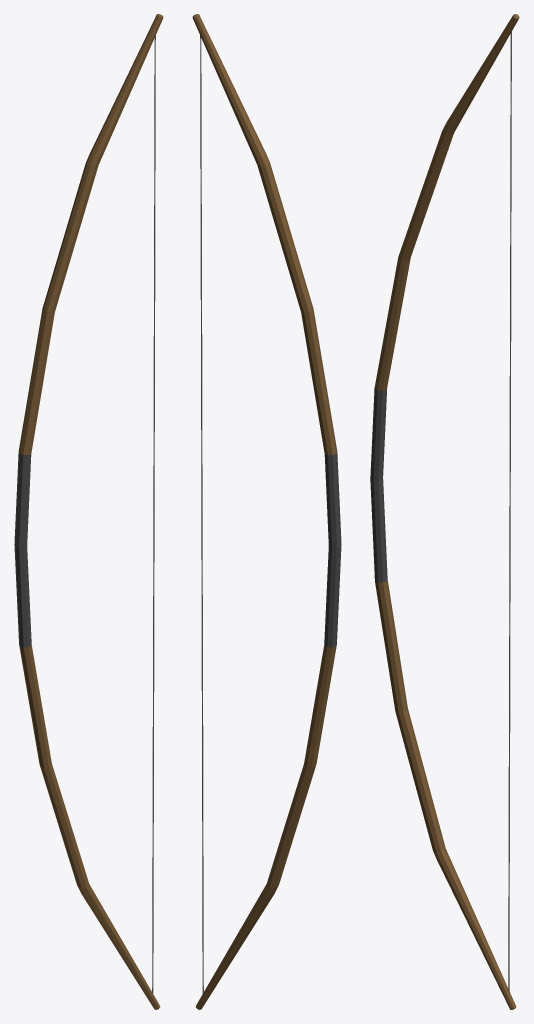
Rendered from Longbow.fbx.
3 renders of one model, left to right at view 1: azimuth 30°, elevation 25°; view 2: azimuth 150°, elevation 25°; view 3: azimuth 330°, elevation 25°, orthographic.
Visible parts, largest first — view 1: Longbow; view 2: Longbow; view 3: Longbow.
Boxes of the visible parts, box(x1,y1,x2,y2) form: Longbow: box(14, 14, 163, 1009); Longbow: box(192, 14, 341, 1009); Longbow: box(370, 14, 519, 1009).
Size of the model in its own units: 31.29 by 202 by 2.28.
